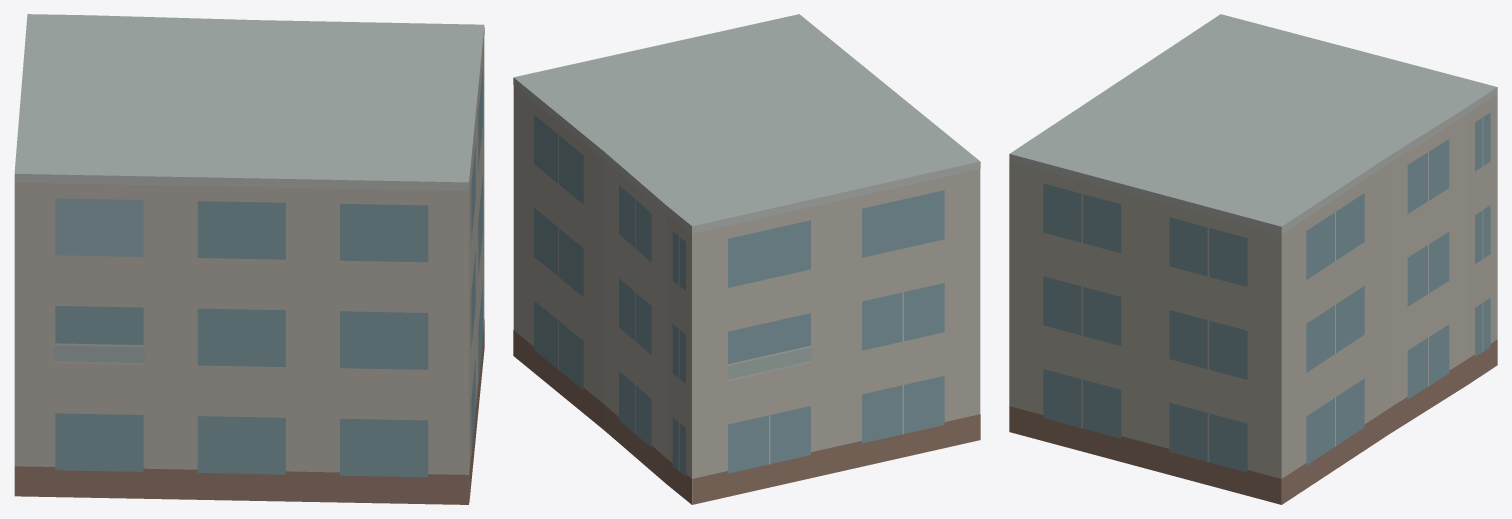
Rendered from survey-upis-32626721.glb.
The picture shows the model from 3 angles, left to right: view 1: azimuth 30°, elevation 25°; view 2: azimuth 150°, elevation 25°; view 3: azimuth 270°, elevation 25°; orthographic projection. The views are drawn at different scales.
Visible parts, largest first — view 1: survey-upis-32626721.tmp; view 2: survey-upis-32626721.tmp; view 3: survey-upis-32626721.tmp.
Boxes of the visible parts, left/top/right/bottom form: survey-upis-32626721.tmp: left=14, top=14, right=484, bottom=504; survey-upis-32626721.tmp: left=513, top=14, right=980, bottom=504; survey-upis-32626721.tmp: left=1009, top=14, right=1497, bottom=504.
Bounding box in the file's own units: 14.93 × 9.1 × 14.48.
